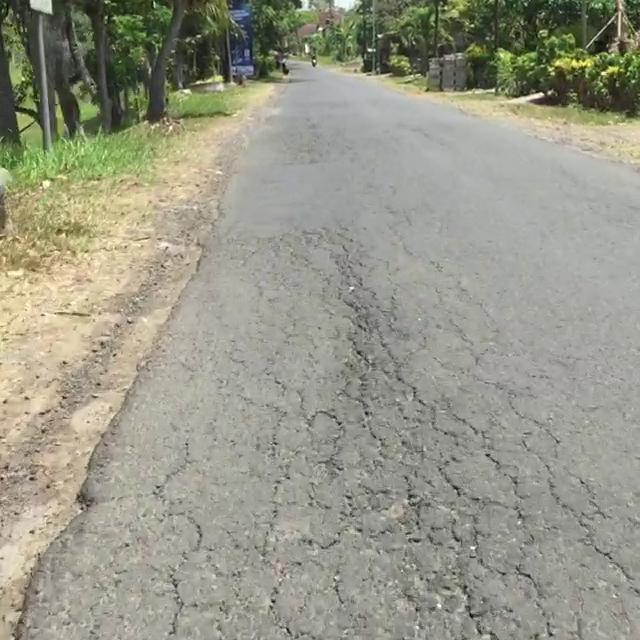retak_kulit_buaya: (177, 224, 564, 640)
